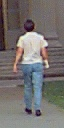person: (11, 15, 53, 116)
